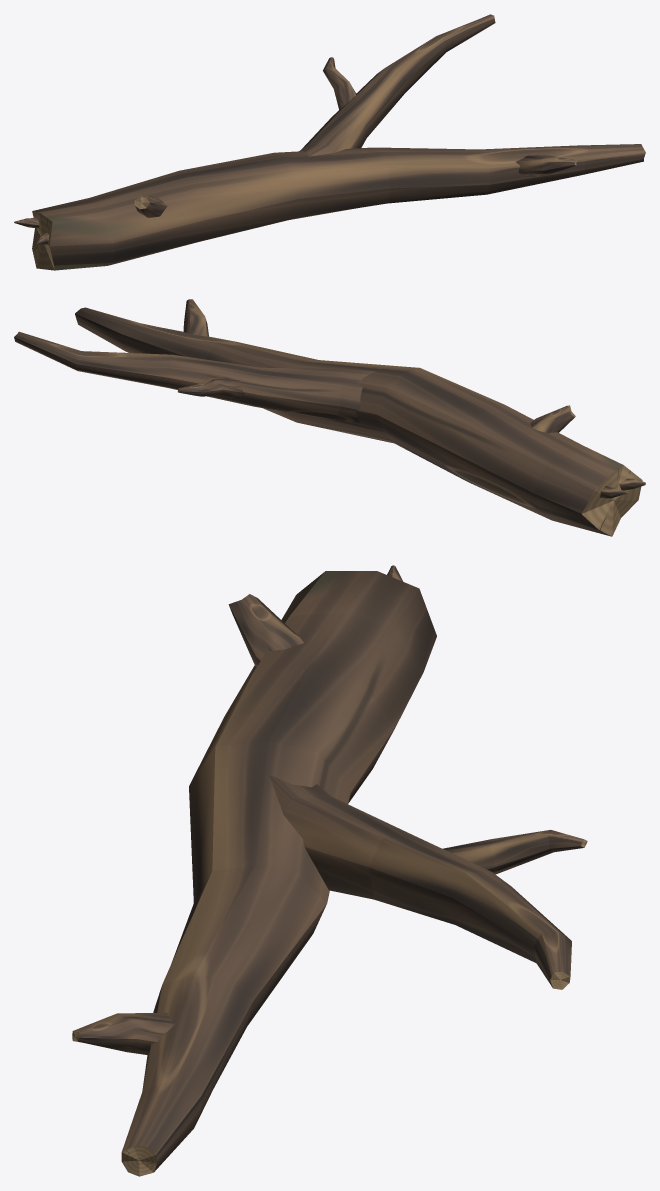
File: SM_ForestWater_ForkedDriftwood.fbx
3 renders of one model, top to bottom at view 1: azimuth 30°, elevation 25°; view 2: azimuth 150°, elevation 25°; view 3: azimuth 270°, elevation 25°, orthographic. The views are drawn at different scales.
Parts seen in each view (by area): view 1: SM_ForestWater_ForkedDriftwood; view 2: SM_ForestWater_ForkedDriftwood; view 3: SM_ForestWater_ForkedDriftwood.
Part boxes in pixels (x1=…): SM_ForestWater_ForkedDriftwood: x1=14, y1=14, x2=645, y2=270; SM_ForestWater_ForkedDriftwood: x1=14, y1=299, x2=645, y2=536; SM_ForestWater_ForkedDriftwood: x1=72, y1=565, x2=587, y2=1176.
Size of the model in its own units: 165 by 64.87 by 27.78.
1 material, 1 textured.
